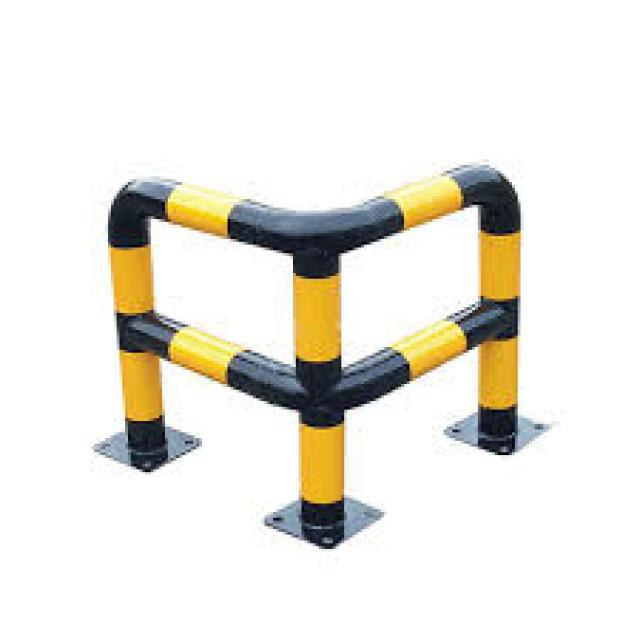bollard: (80, 163, 564, 557)
